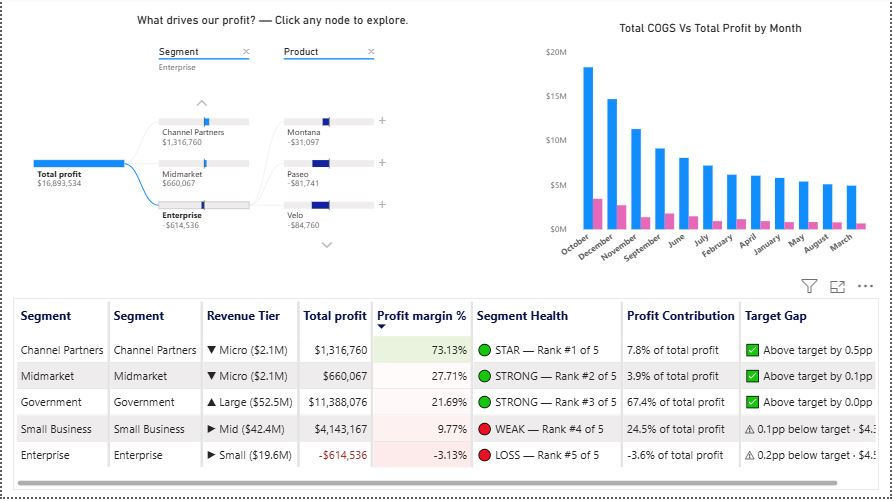

This screenshot's page, from the dashboard's own definition file:
{"tool":"powerbi","page":{"name":"Page 2","canvas":[1280,720],"ordinal":1},"visuals":[{"type":"tableEx","fields":{"Values":["Cleaned_Financuaks.Segment","Cleaned_Financuaks.Segment","Cleaned_Financuaks.Revenue Tier","Cleaned_Financuaks.Total profit","Cleaned_Financuaks.Profit margin %","Cleaned_Financuaks.Segment Health","Cleaned_Financuaks.Profit Contribution","Cleaned_Financuaks.Target Gap"]},"box":[15.8,433.4,1247,276.5],"z":0},{"type":"clusteredColumnChart","title":"Total COGS Vs Total Profit by Month","fields":{"Category":["Cleaned_Financuaks.Month Name"],"Y":["Cleaned_Financuaks.Total COGS","Cleaned_Financuaks.Total profit"]},"box":[777.6,34.6,485.3,370.1],"z":1000},{"type":"decompositionTreeVisual","title":"What drives our profit? — Click any node to explore.","fields":{"Analyze":["Cleaned_Financuaks.Total profit"],"ExplainBy":["Cleaned_Financuaks.Segment","Cleaned_Financuaks.Product","Cleaned_Financuaks.Country","Cleaned_Financuaks.Discount Band"]},"box":[15.8,23,747.4,381.6],"z":2000}]}

Visuals, with their boxes in screenshot pixels (x1, y1, x2, y2), scaled from the page's 1280x720 canvas onto the 893x501 screenshot:
tableEx - Cleaned_Financuaks.Segment x Cleaned_Financuaks.Segment: region(11, 302, 881, 494)
"Total COGS Vs Total Profit by Month" clusteredColumnChart: region(542, 24, 881, 282)
"What drives our profit? — Click any node to explore." decompositionTreeVisual: region(11, 16, 532, 282)
